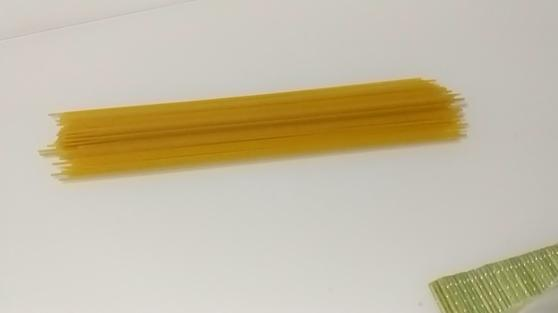spaghetti: (44, 69, 485, 166)
